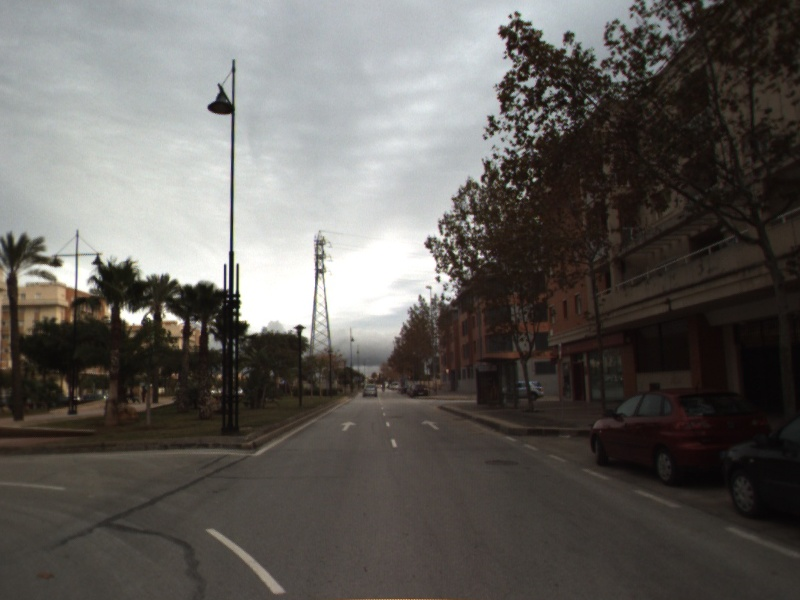STRAIGHT: (419, 417, 441, 432), (339, 419, 359, 433)
